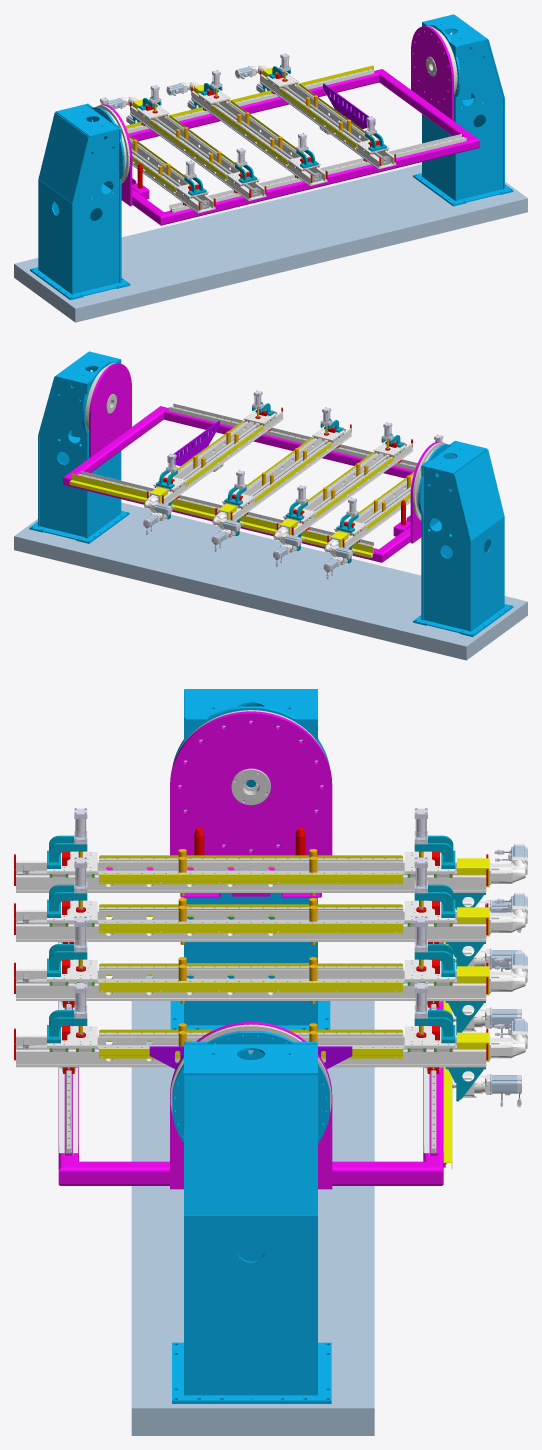
File: AssembleStation.glb
3 renders of one model, top to bottom at view 1: azimuth 30°, elevation 25°; view 2: azimuth 150°, elevation 25°; view 3: azimuth 270°, elevation 25°, orthographic. The views are drawn at different scales.
Visible parts, largest first — view 1: StationBase, ColLeft, BracketBase, ColRight, FixedBase.003, FixedBase.005, FixedBase.002, FixedBase.001, Clamp, LeftSlideBase.001, LeftSlideBase.003, LeftSlideBase.004 (+4 smaller); view 2: StationBase, ColLeft, BracketBase, ColRight, FixedBase.002, FixedBase.005, FixedBase.003, FixedBase.001, Clamp, LeftSlideBase.003, RightSlideBase.001, RightSlideBase.004 (+4 smaller); view 3: ColRight, StationBase, BracketBase, FixedBase.003, FixedBase.002, FixedBase.001, FixedBase.005, ColLeft, RightSlideBase.004, LeftSlideBase.004, RightSlideBase.003, LeftSlideBase.003 (+5 smaller).
Boxes of the visible parts, <box> form: StationBase: <box>14,164,527,322</box>; ColLeft: <box>30,103,130,300</box>; BracketBase: <box>99,26,479,225</box>; ColRight: <box>413,14,513,206</box>; FixedBase.003: <box>166,82,327,185</box>; FixedBase.005: <box>235,65,396,169</box>; FixedBase.002: <box>107,97,266,200</box>; FixedBase.001: <box>128,134,215,213</box>; Clamp: <box>323,83,375,129</box>; LeftSlideBase.001: <box>176,160,208,199</box>; LeftSlideBase.003: <box>288,133,320,171</box>; LeftSlideBase.004: <box>356,116,389,155</box>; StationBase: <box>14,502,527,660</box>; ColLeft: <box>413,440,513,636</box>; BracketBase: <box>63,363,443,562</box>; ColRight: <box>29,351,129,543</box>; FixedBase.002: <box>273,439,412,566</box>; FixedBase.005: <box>143,407,283,534</box>; FixedBase.003: <box>211,424,351,551</box>; FixedBase.001: <box>323,472,414,579</box>; Clamp: <box>167,420,219,466</box>; LeftSlideBase.003: <box>312,407,345,444</box>; RightSlideBase.001: <box>334,497,366,536</box>; RightSlideBase.004: <box>153,453,186,492</box>; ColRight: <box>170,1024,331,1403</box>; StationBase: <box>131,976,374,1435</box>; BracketBase: <box>58,711,452,1189</box>; FixedBase.003: <box>14,952,527,1037</box>; FixedBase.002: <box>14,893,527,971</box>; FixedBase.001: <box>14,844,527,932</box>; FixedBase.005: <box>14,1018,527,1107</box>; ColLeft: <box>170,689,330,1029</box>; RightSlideBase.004: <box>404,982,455,1051</box>; LeftSlideBase.004: <box>47,982,97,1051</box>; RightSlideBase.003: <box>404,916,455,985</box>; LeftSlideBase.003: <box>47,916,97,985</box>.
Size of the model in its own units: 5.1 by 1.91 by 2.54.
